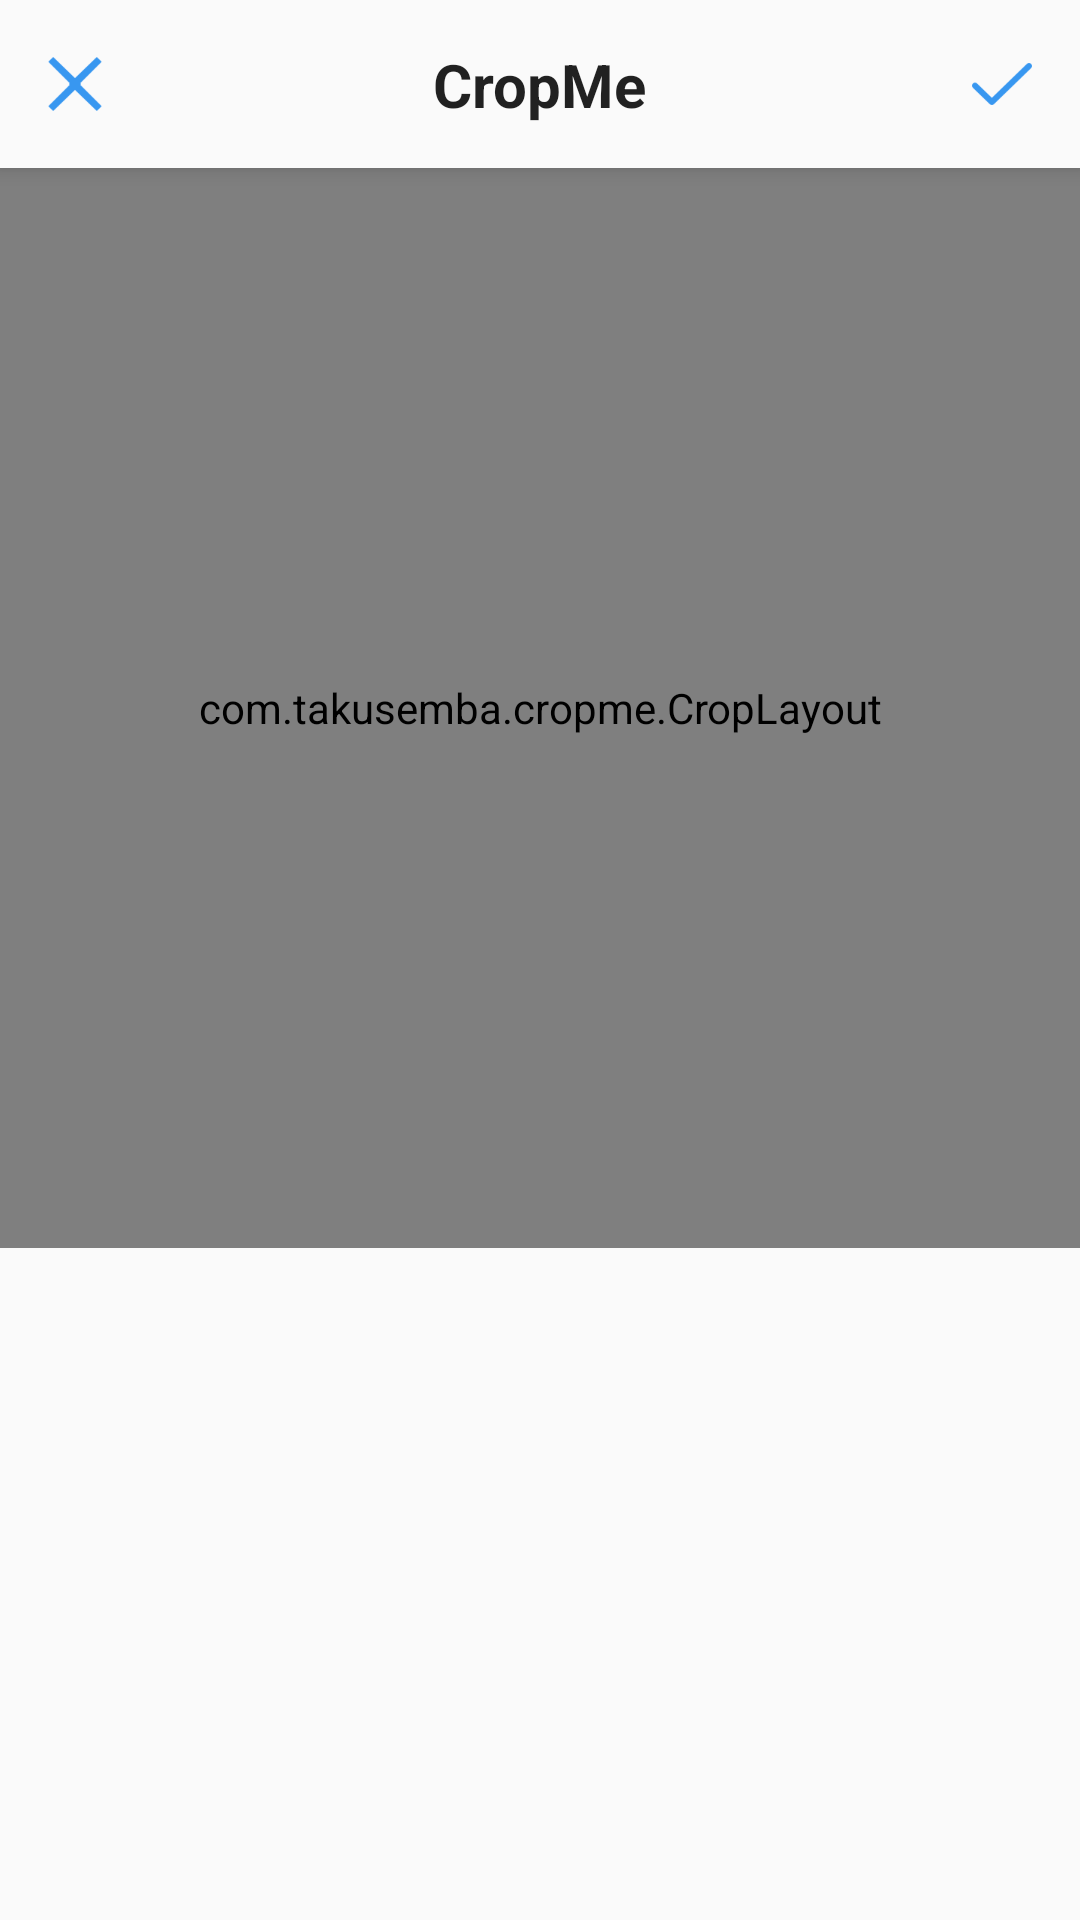

Named icons in this screenshot (1080 x 1920) and their centers, (x,y):
check: (1002,84)
cross: (75,84)
